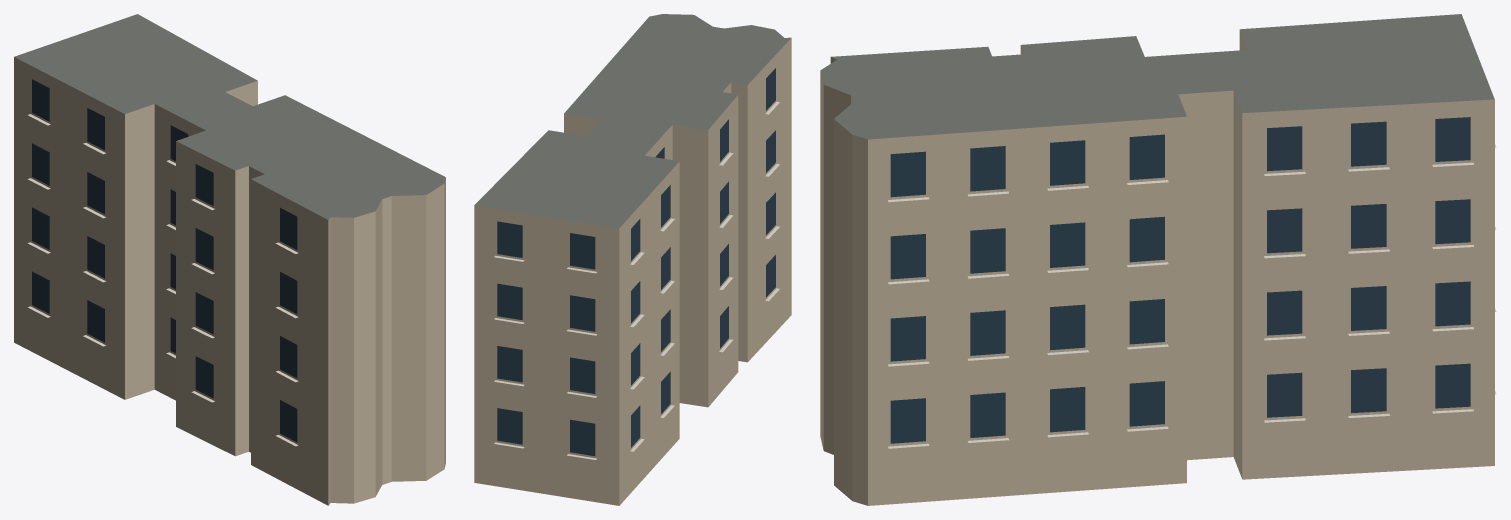
3 renders of one model, left to right at view 1: azimuth 30°, elevation 25°; view 2: azimuth 150°, elevation 25°; view 3: azimuth 270°, elevation 25°, orthographic. The views are drawn at different scales.
Visible parts, largest first — view 1: Footprint 0, Inferred window bays, Window sills; view 2: Footprint 0, Inferred window bays, Window sills; view 3: Footprint 0, Inferred window bays, Window sills.
Part boxes in pixels (left/top/right/bottom): Footprint 0: left=14, top=14, right=445, bottom=505; Inferred window bays: left=32, top=79, right=297, bottom=442; Window sills: left=27, top=114, right=298, bottom=446; Footprint 0: left=474, top=14, right=791, bottom=505; Inferred window bays: left=497, top=68, right=775, bottom=456; Window sills: left=494, top=101, right=779, bottom=459; Footprint 0: left=820, top=14, right=1494, bottom=505; Inferred window bays: left=890, top=117, right=1470, bottom=443; Window sills: left=888, top=144, right=1496, bottom=448.
Size of the model in its own units: 10.46 by 14.04 by 23.47.
